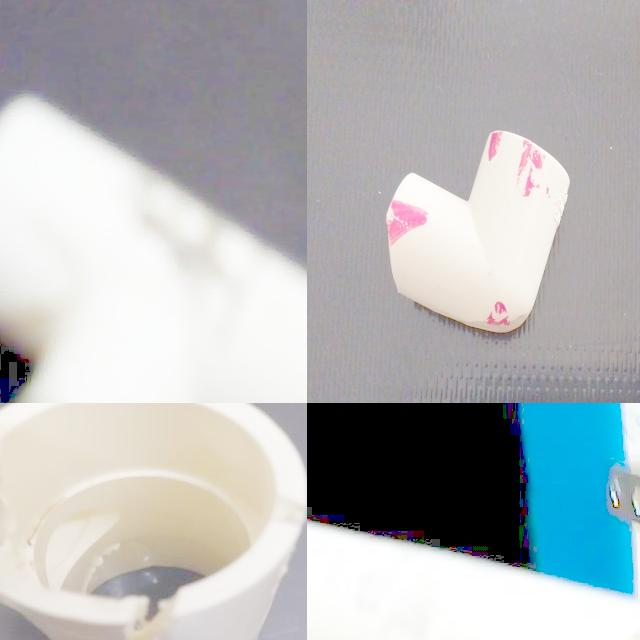Defective: (135, 201, 240, 308), (544, 218, 608, 271), (115, 592, 179, 640), (603, 0, 640, 68), (0, 431, 21, 547), (538, 140, 598, 179)
L Joint: (529, 0, 640, 308)
T Joint: (0, 95, 307, 403), (307, 521, 640, 640)
